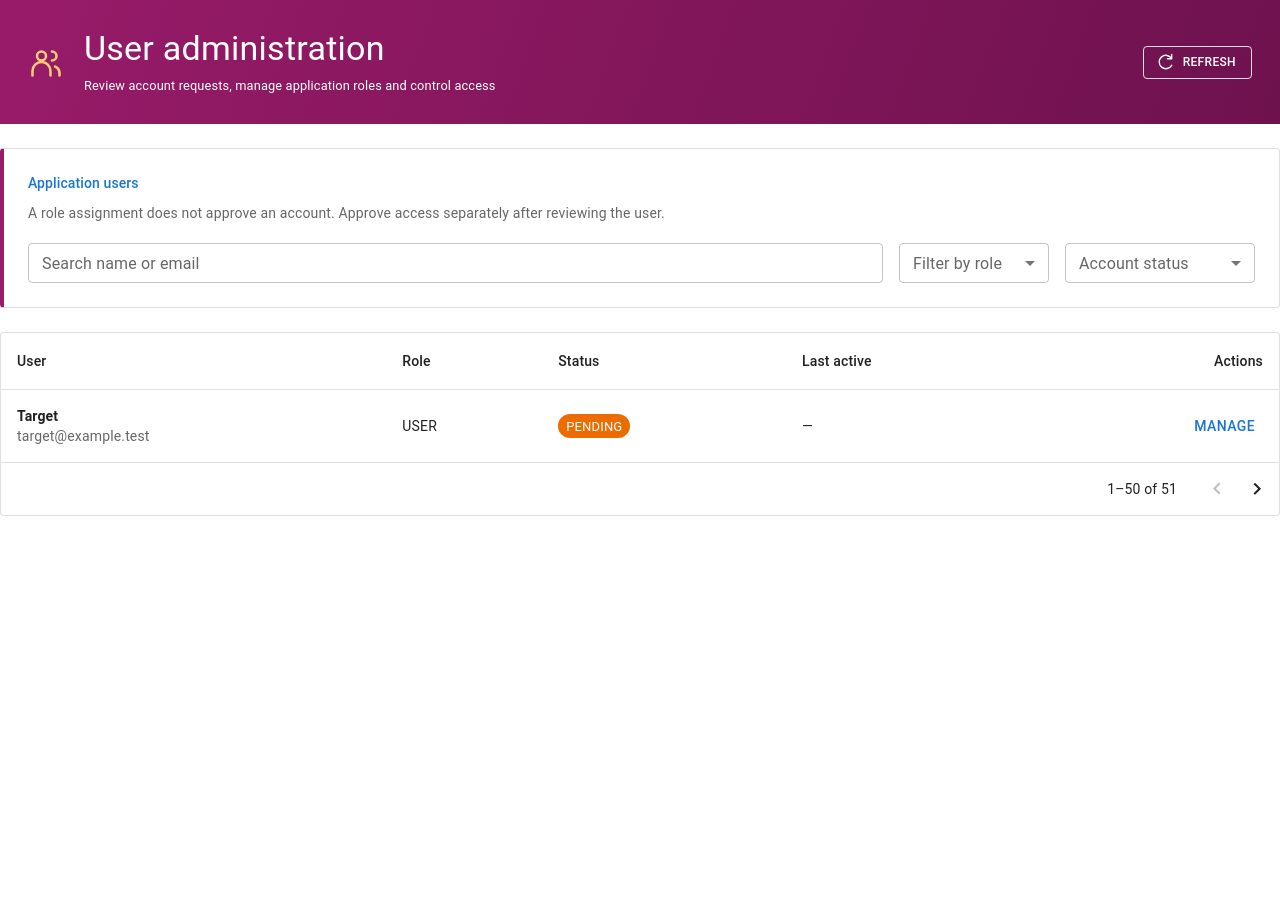
Test: user administration contracts › retains the dialog and refreshes local capabilities after an access denial
Step 1. Click the button with aria-label "Manage Target" → (1225, 426), box [1186, 408, 1263, 445]
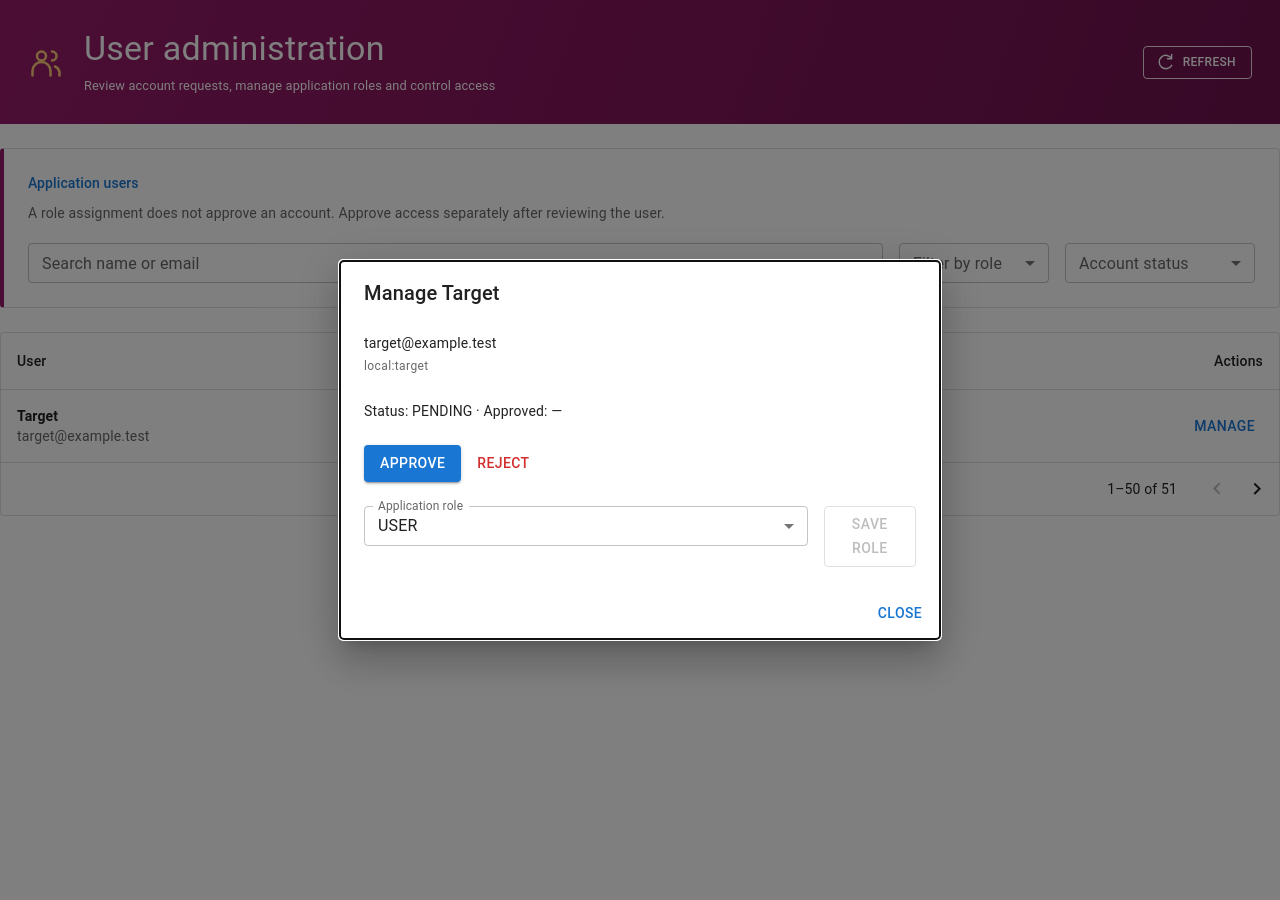
Step 2. Click the button "Approve" → (413, 463), box [364, 445, 461, 482]
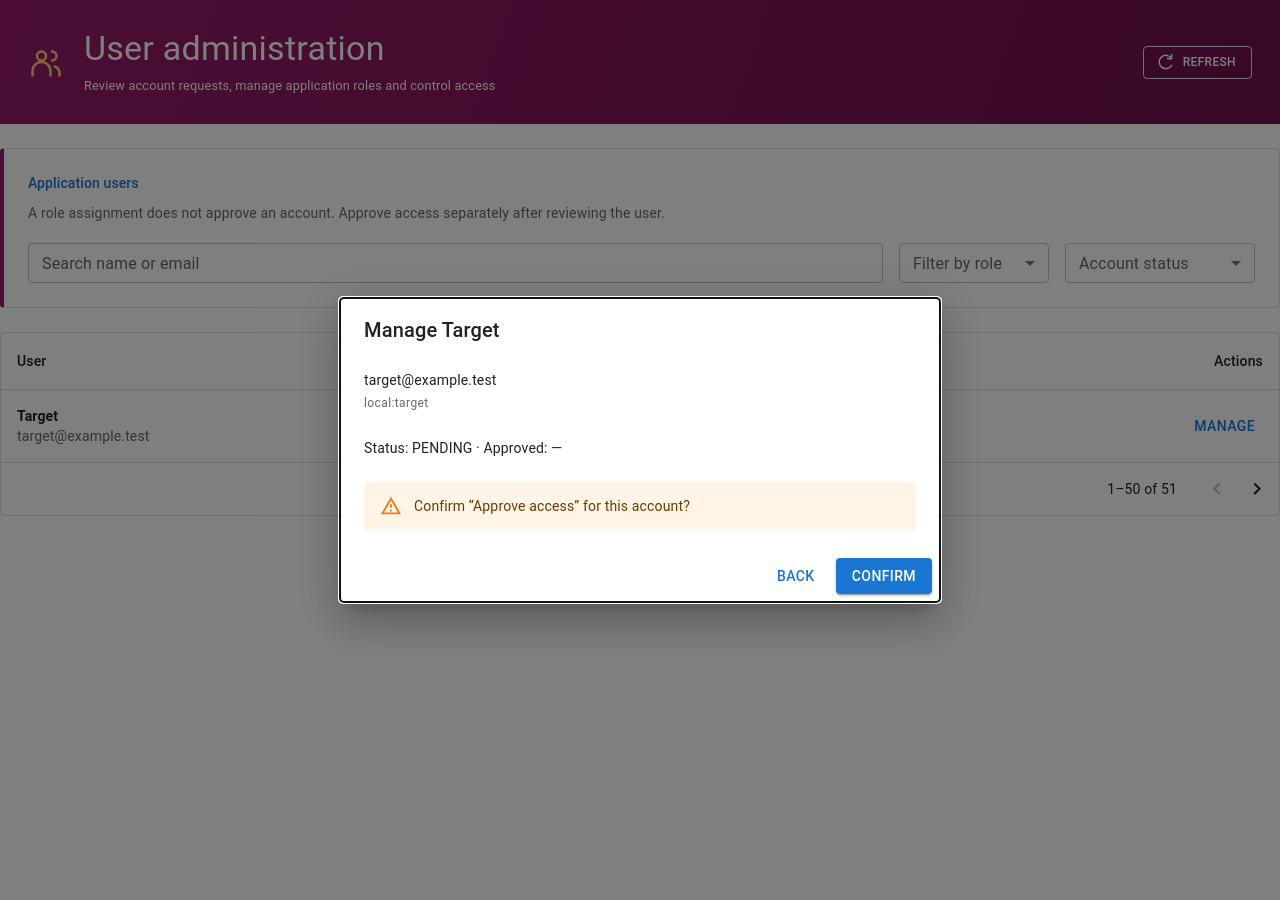
Step 3. Click the button "Confirm" → (884, 576), box [836, 558, 932, 594]
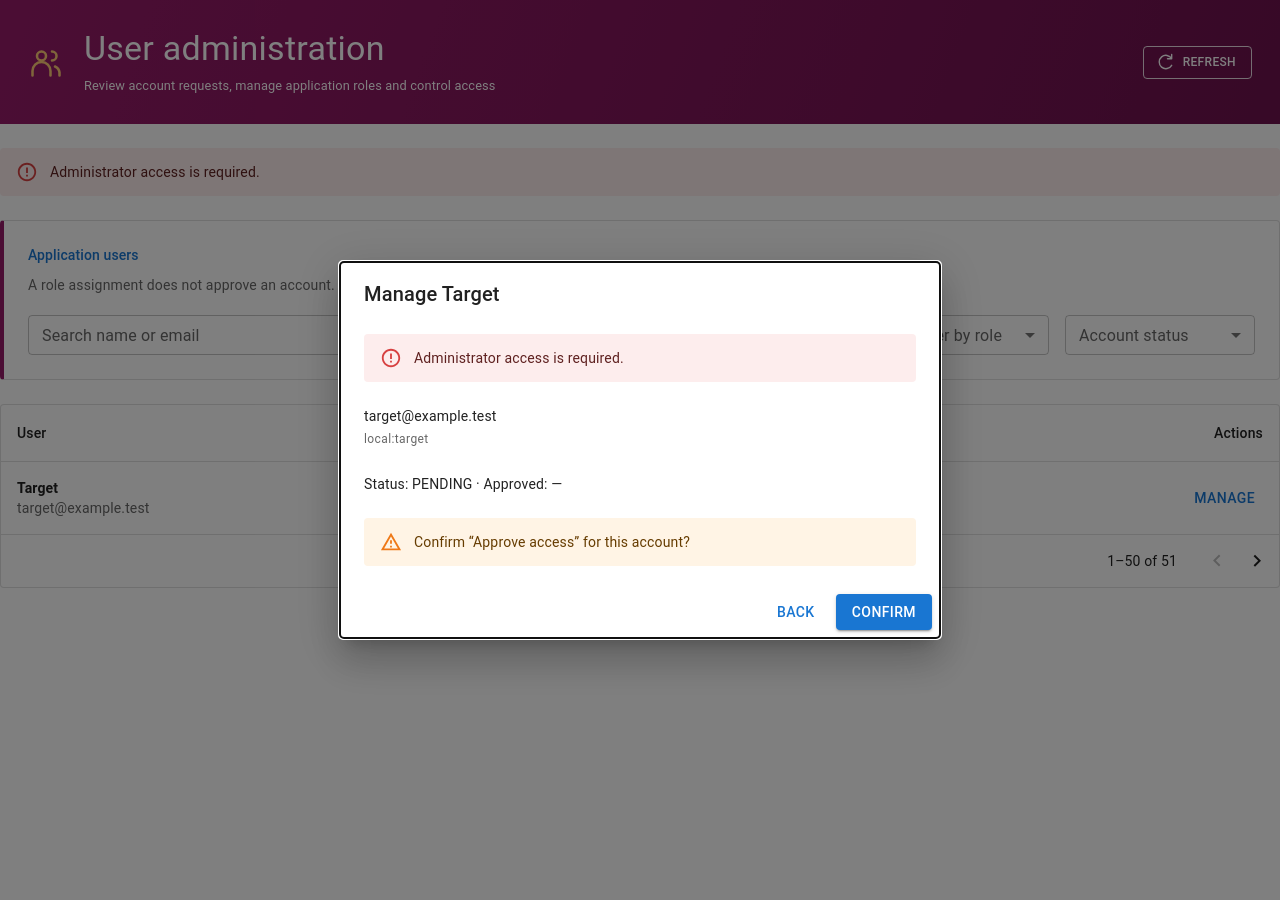
Expected: the text "Administrator access is required." is shown, [414, 350, 624, 366]
